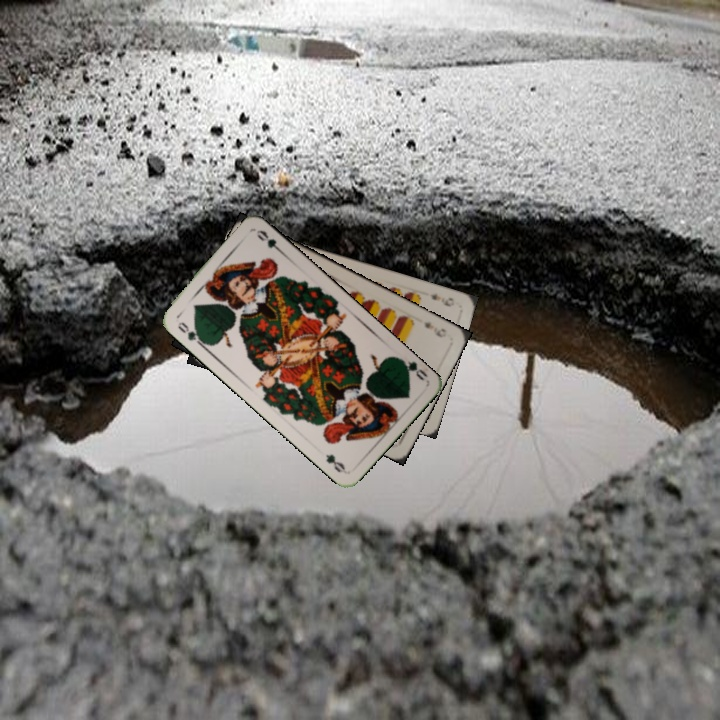E9: (419, 318, 449, 340), (426, 289, 457, 309)
GO: (173, 318, 207, 349), (394, 354, 430, 383)
